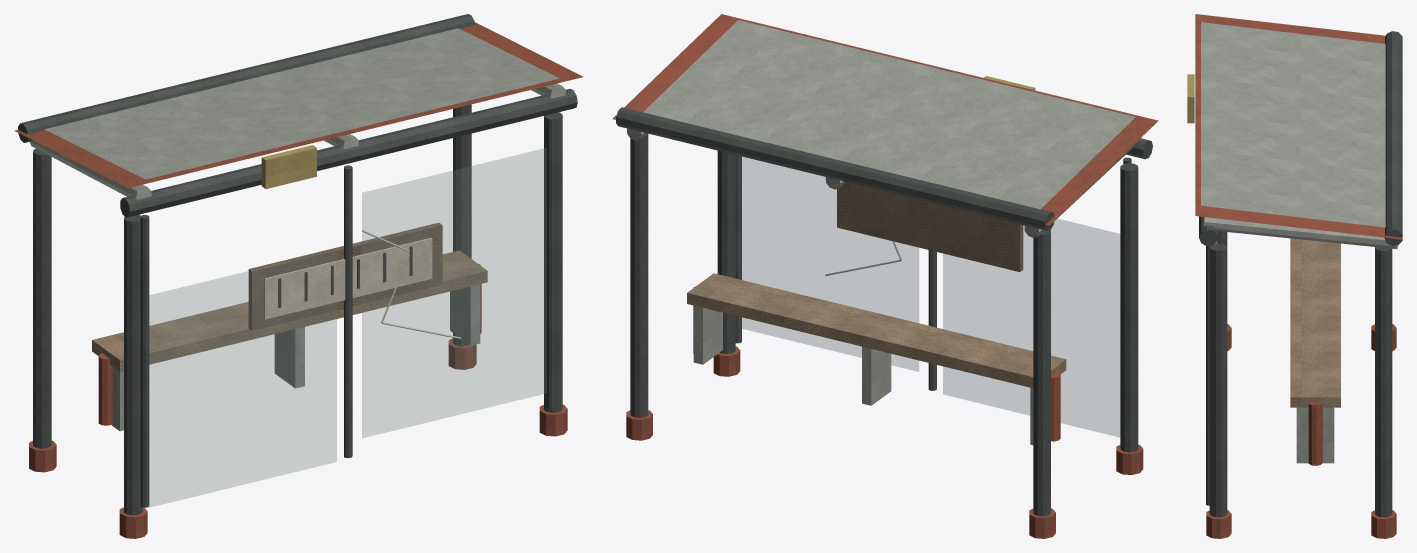
File: collapsed_bus_shelter.glb
3 views of the same model, side by side, from view 1: azimuth 30°, elevation 25°; view 2: azimuth 150°, elevation 25°; view 3: azimuth 270°, elevation 25° (orthographic). The views are drawn at different scales.
Parts seen in each view (by area): view 1: DecorativeStaticModel; view 2: DecorativeStaticModel; view 3: DecorativeStaticModel.
Boxes of the visible parts, x1,y1,x2,y2 form: DecorativeStaticModel: (14, 14, 583, 538); DecorativeStaticModel: (612, 14, 1158, 538); DecorativeStaticModel: (1187, 14, 1402, 538).
Bounding box in the file's own units: 3.3 × 2.49 × 1.49.
8 materials, 7 textured.
